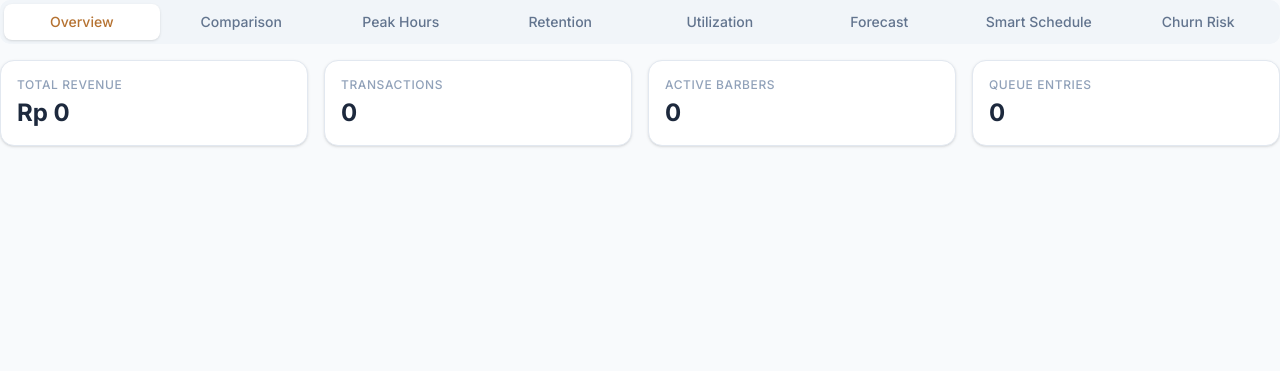
Scenario: analytics feature › Peak Hours tab renders heatmap grid
The image size is (1280, 371).
Click the button "Peak Hours". click: click(401, 22)
box: [323,4,478,40]
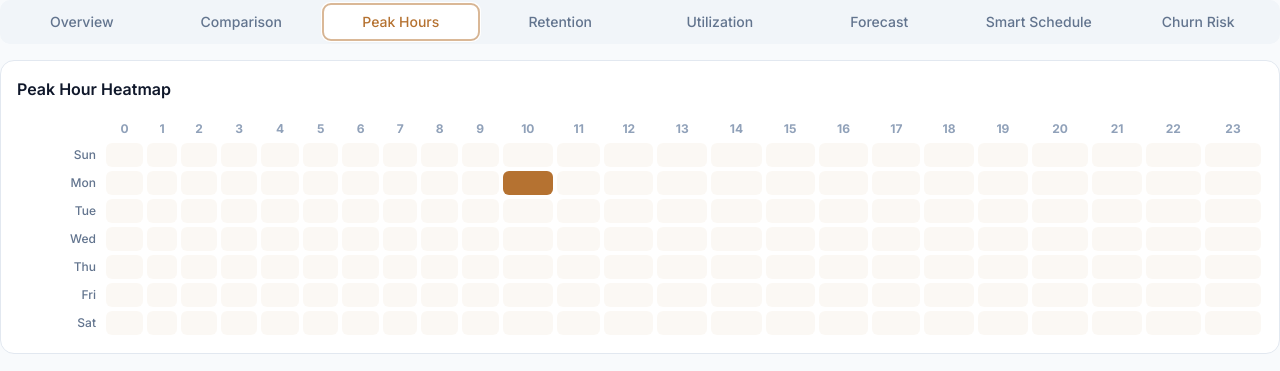
Expected: the heading "Peak Hour Heatmap" is shown, [17,79,171,99]
Expected: the text "Mon" is shown, [17,169,104,197]
